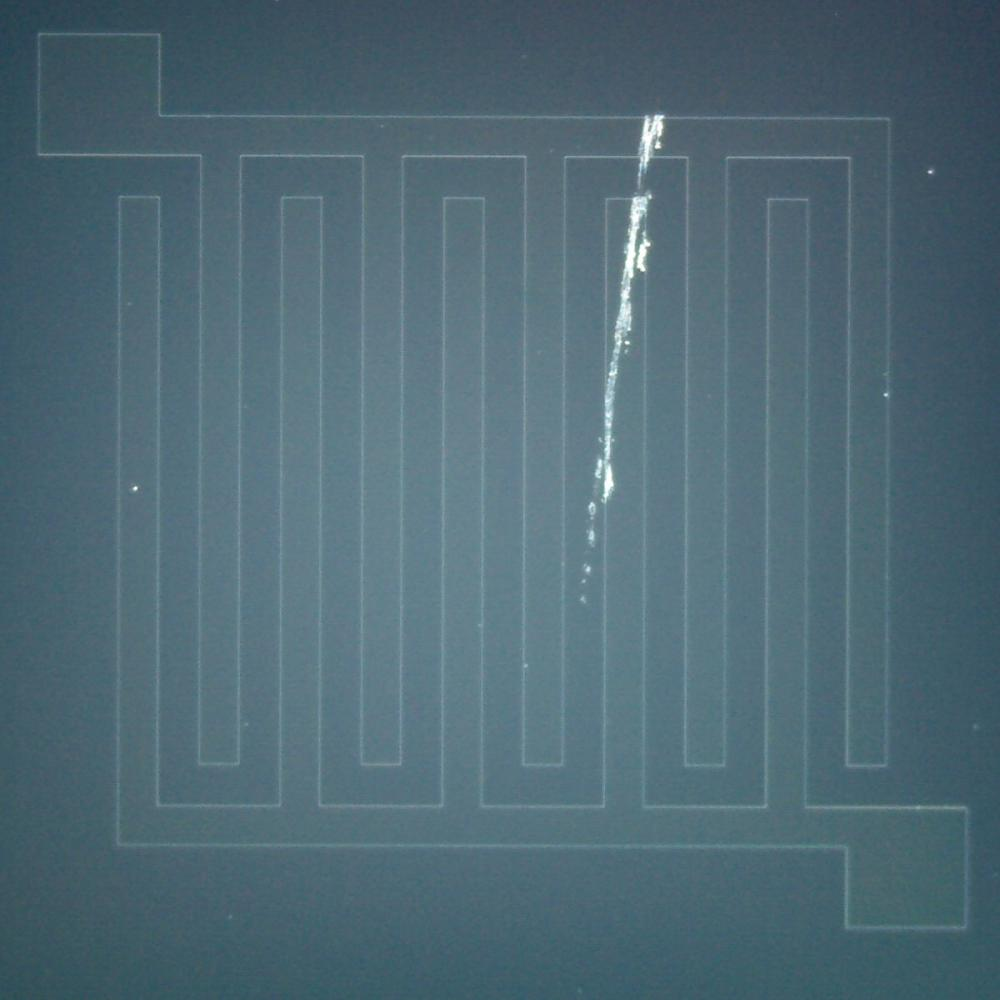dot: (882, 392, 888, 398), (929, 170, 933, 174), (133, 487, 137, 490)
straight: (590, 380, 627, 416), (608, 308, 644, 344), (608, 344, 644, 380), (589, 416, 625, 452), (631, 119, 666, 156), (607, 272, 644, 307), (608, 200, 645, 234), (586, 467, 623, 501), (630, 158, 664, 192), (620, 239, 654, 272)
